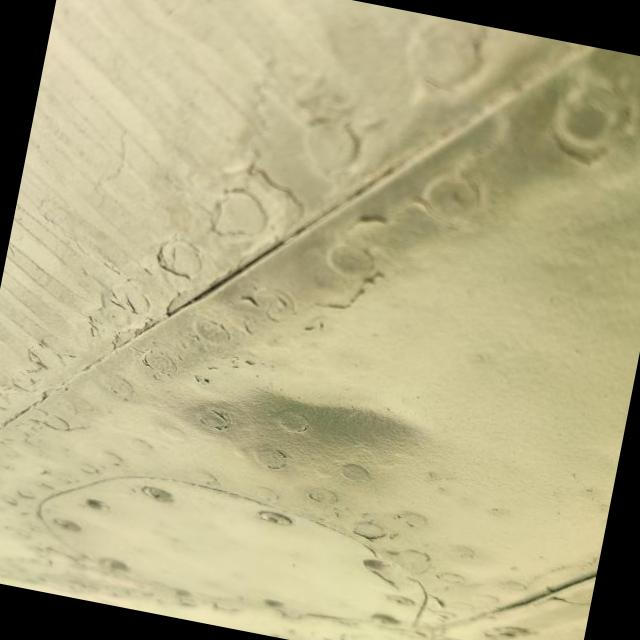Dent: (194, 355, 450, 541)
